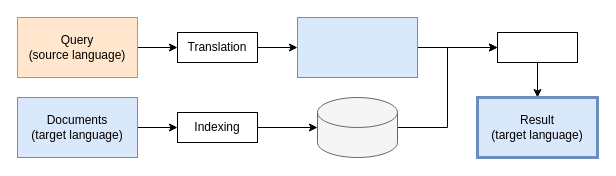
The diagram is 616 pixels wide and 176 high, and some of its shapes have lost their labels. The shapes that lost their labels are listed below. From the top down, each one's box as (x1, y1, x2, y2) in pixels, then its label:
(296, 16, 418, 78): Query (target language)
(496, 32, 578, 62): Matching
(316, 96, 398, 158): Index
